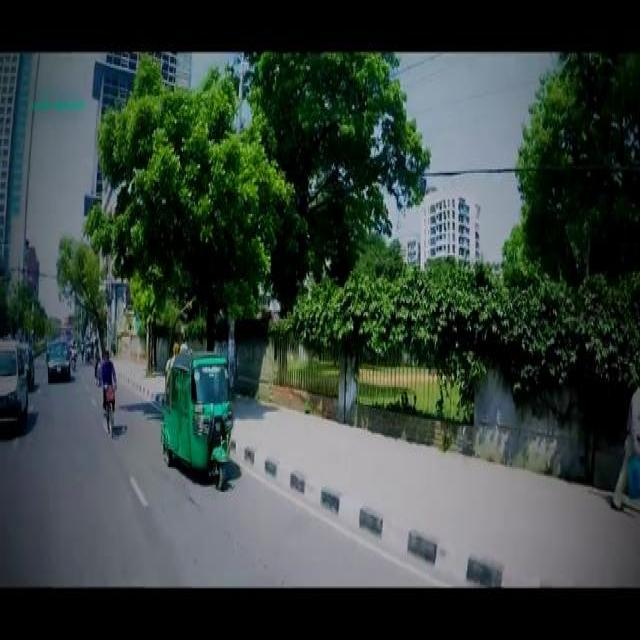bicycle: (98, 380, 115, 431)
minivan: (0, 336, 27, 427)
suv: (44, 337, 70, 378)
three wheelers -CNG-: (160, 347, 232, 486)
